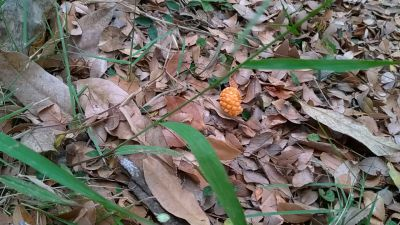eggs: (216, 81, 247, 118)
